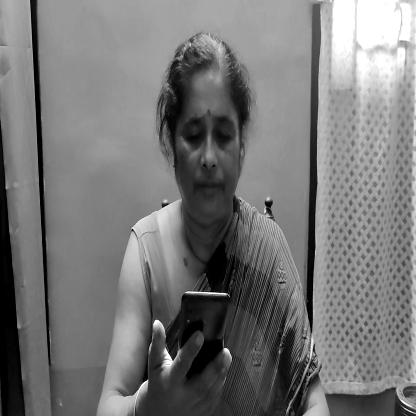Distracted: (162, 42, 252, 231)
